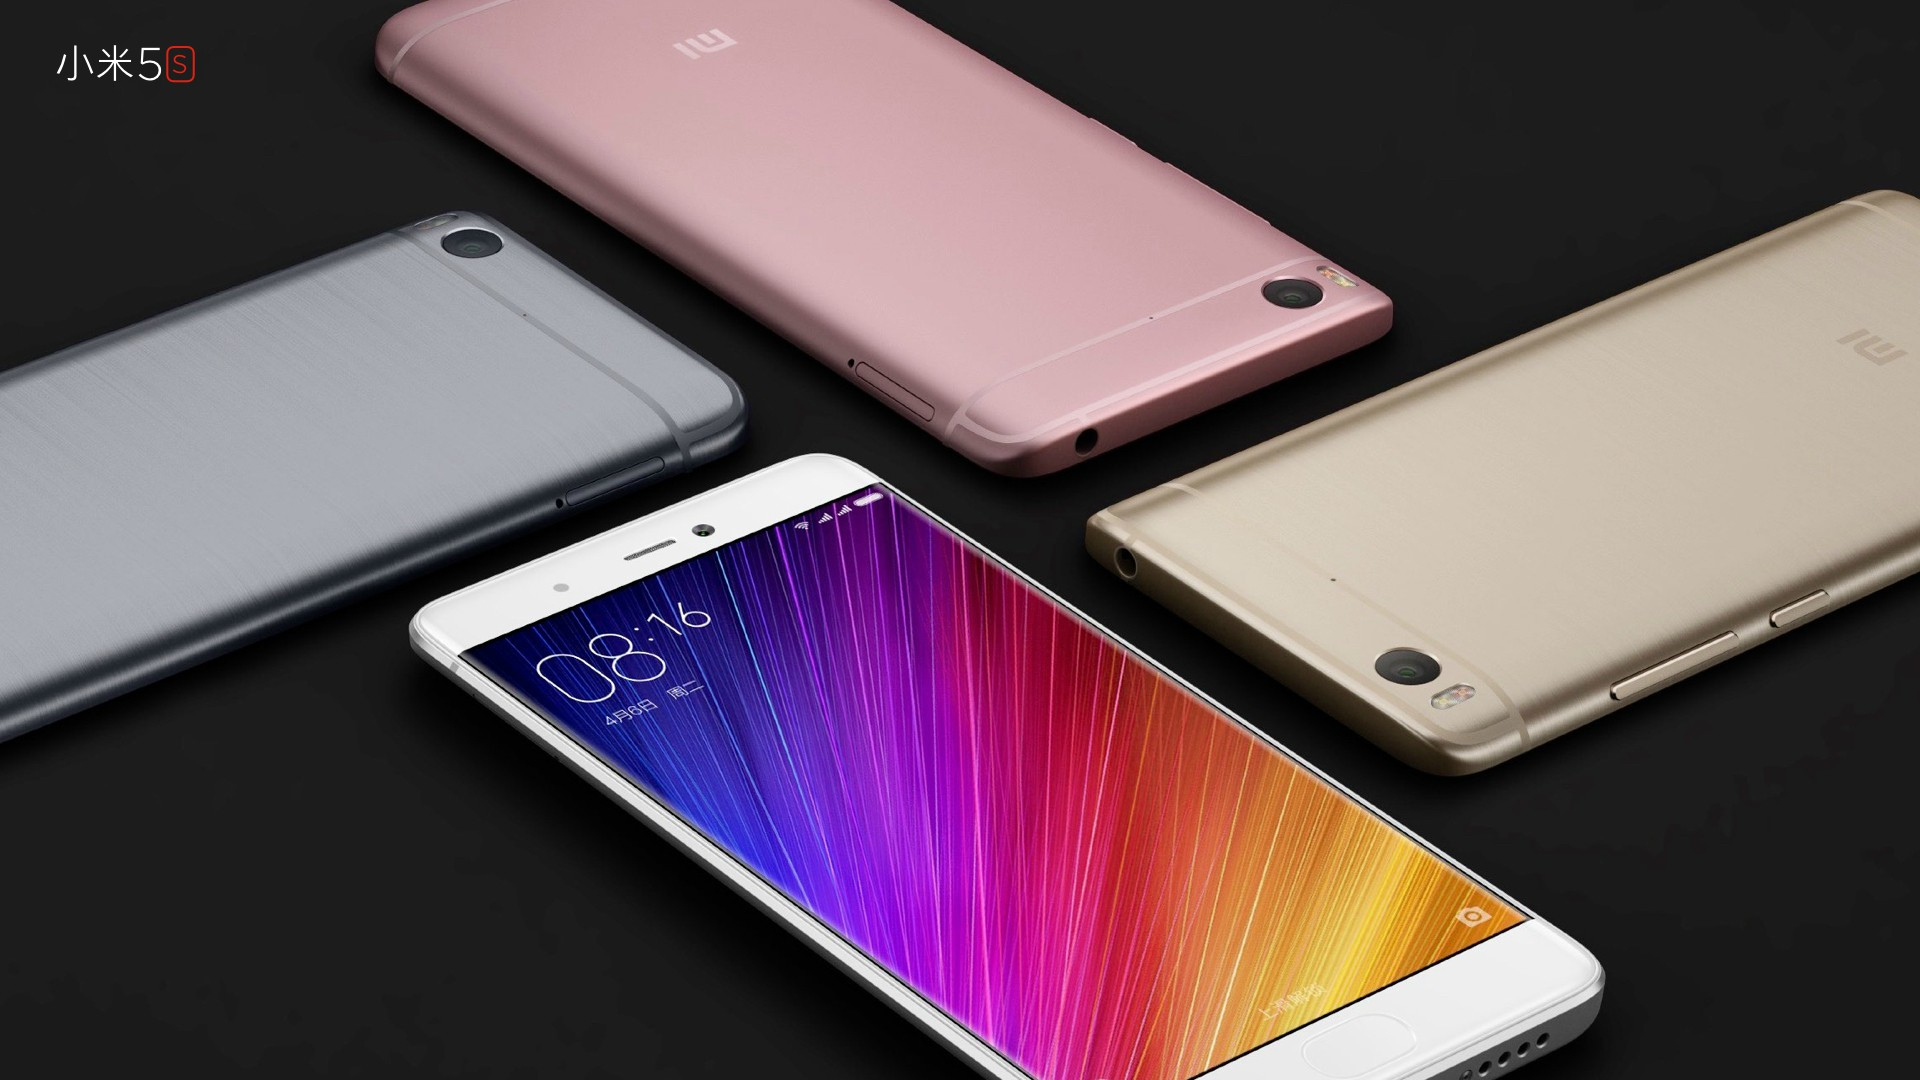smartphone: (409, 450, 1604, 1080), (1087, 189, 1920, 778), (375, 1, 1394, 477), (1, 207, 746, 741)
